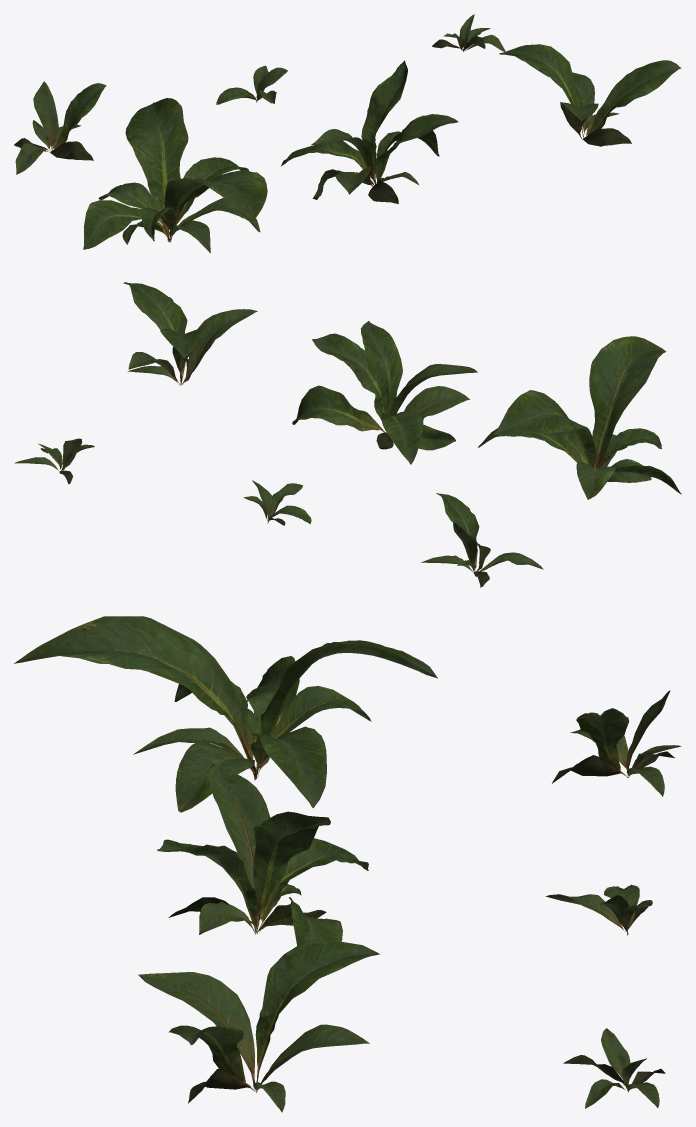
File: anthurium_botany_01.glb
3 views of the same model, one above another, from view 1: azimuth 30°, elevation 25°; view 2: azimuth 150°, elevation 25°; view 3: azimuth 270°, elevation 25° (orthographic). The views are drawn at different scales.
Parts seen in each view (by area): view 1: anthurium_botany_01_a; view 2: anthurium_botany_01_a; view 3: anthurium_botany_01_a.
Boxes of the visible parts, left/top/right/bottom form: anthurium_botany_01_a: left=14, top=14, right=681, bottom=253; anthurium_botany_01_a: left=14, top=282, right=681, bottom=587; anthurium_botany_01_a: left=14, top=616, right=681, bottom=1112.
Size of the model in its own units: 2.8 by 0.498 by 1.8.
Materials: 1 (1 with a texture image).
